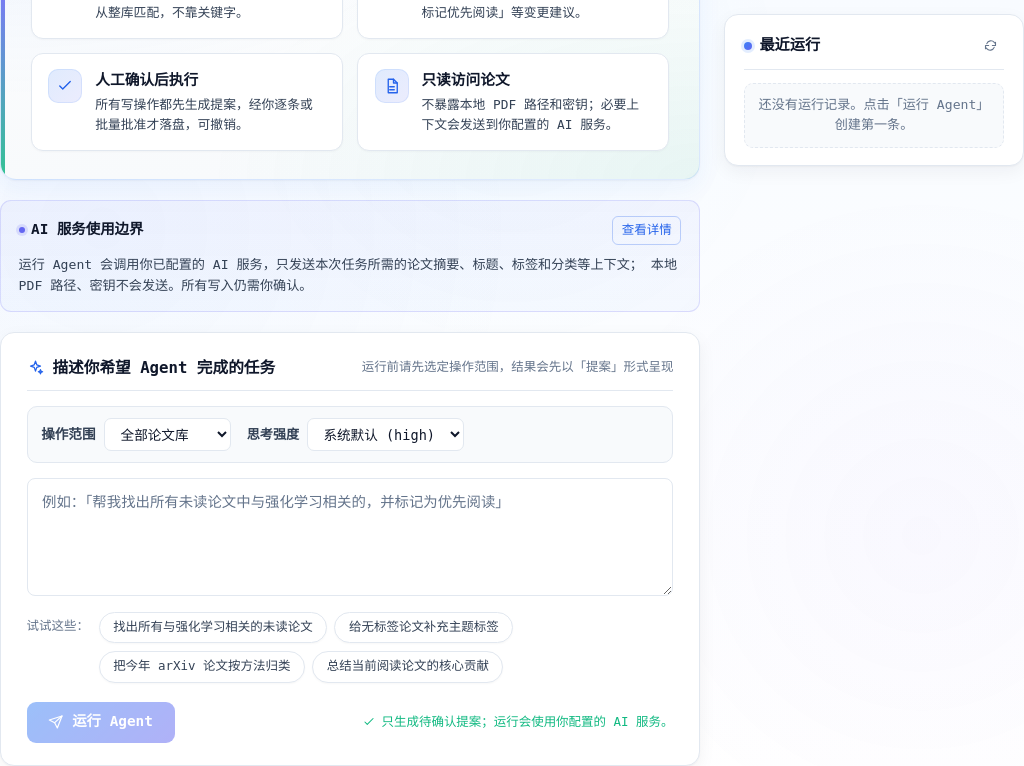
can stop an in-flight agent run
(page scrolled)
Type "test" into the text box named "Agent 提示词". click: [350, 537]
box: [27,478,673,596]
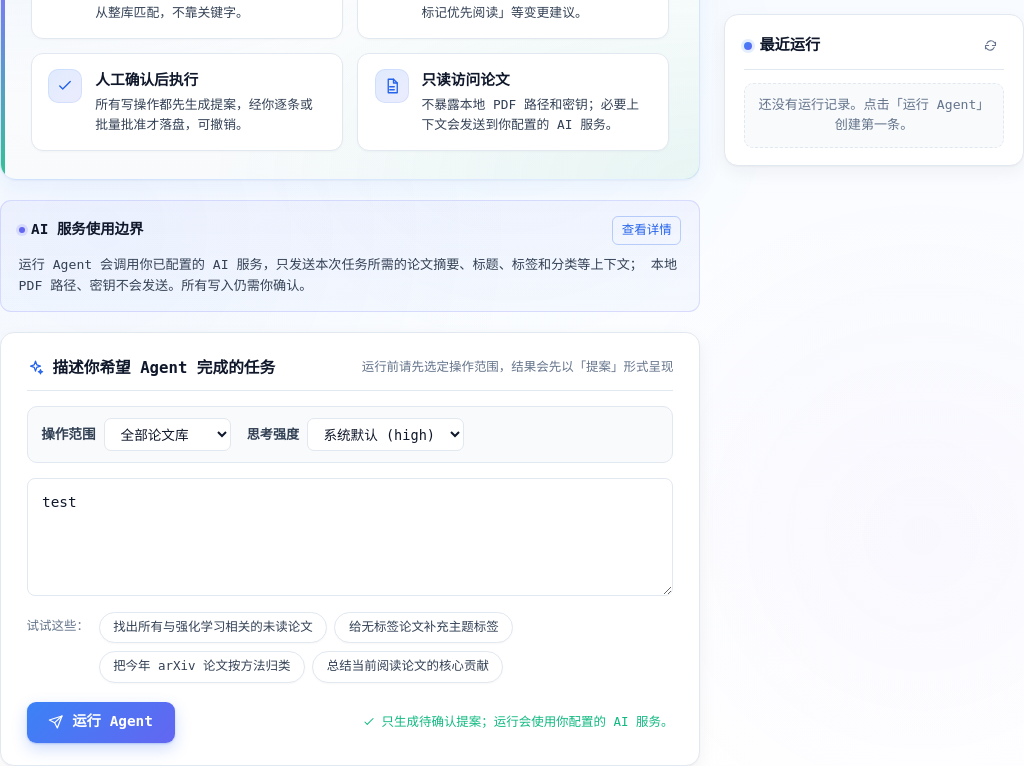
Click the button "运行 Agent". click: [101, 722]
box: [27,702,175,742]
(page scrolled)
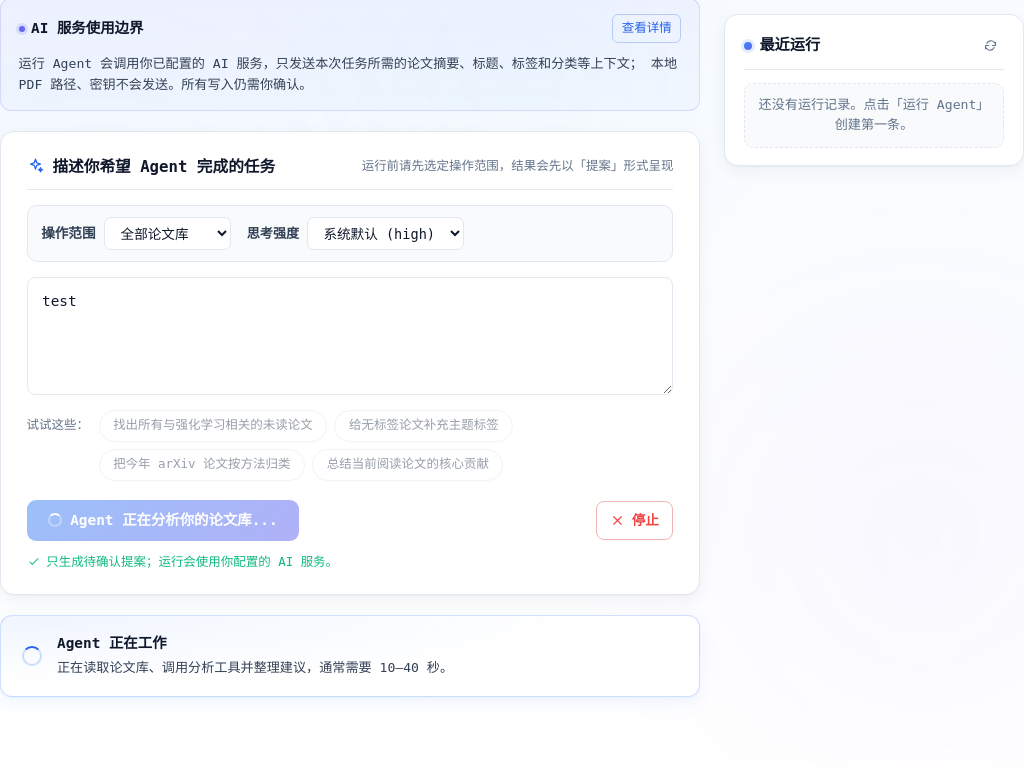
Click the button with aria-label "停止当前 Agent 运行". click: [634, 520]
box: [596,501,673,540]
(page scrolled)
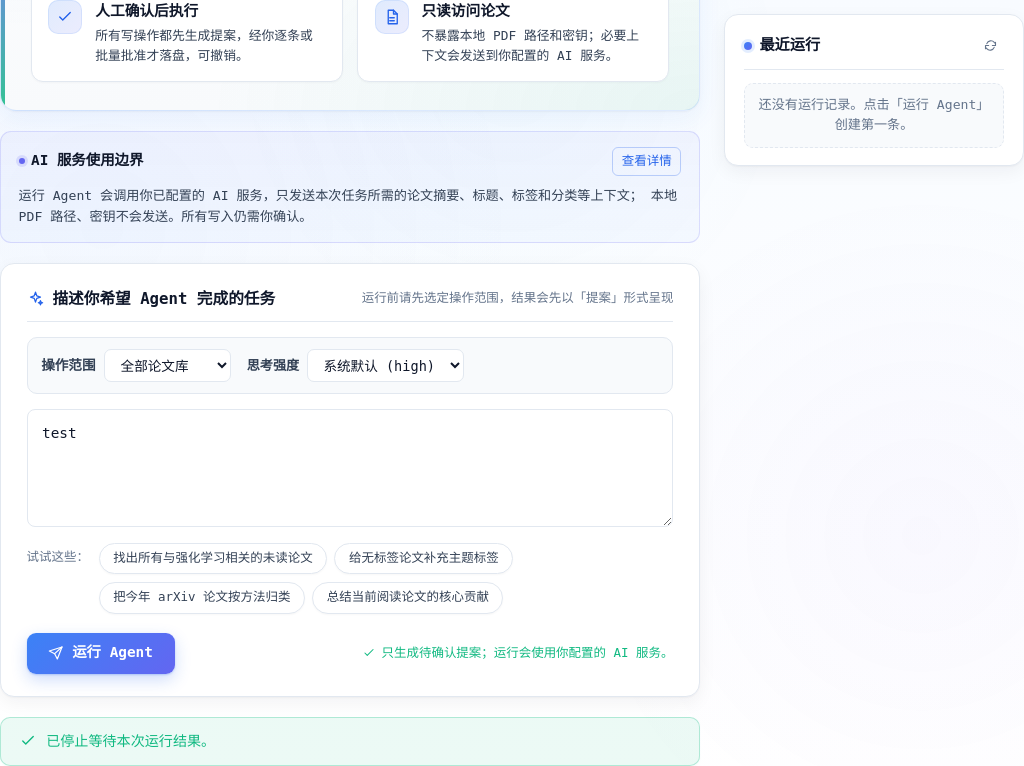
expect the text "已停止等待本次运行结果。" is shown: met, box [46,731,215,752]
